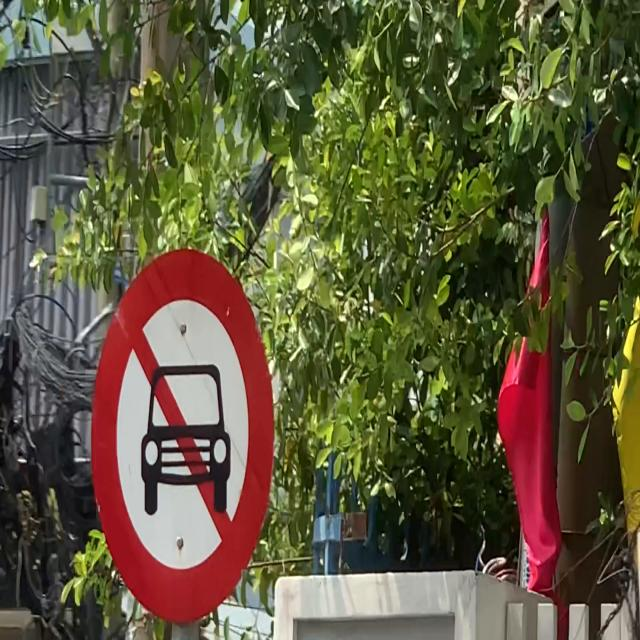Cam con lai: (90, 247, 275, 625)
